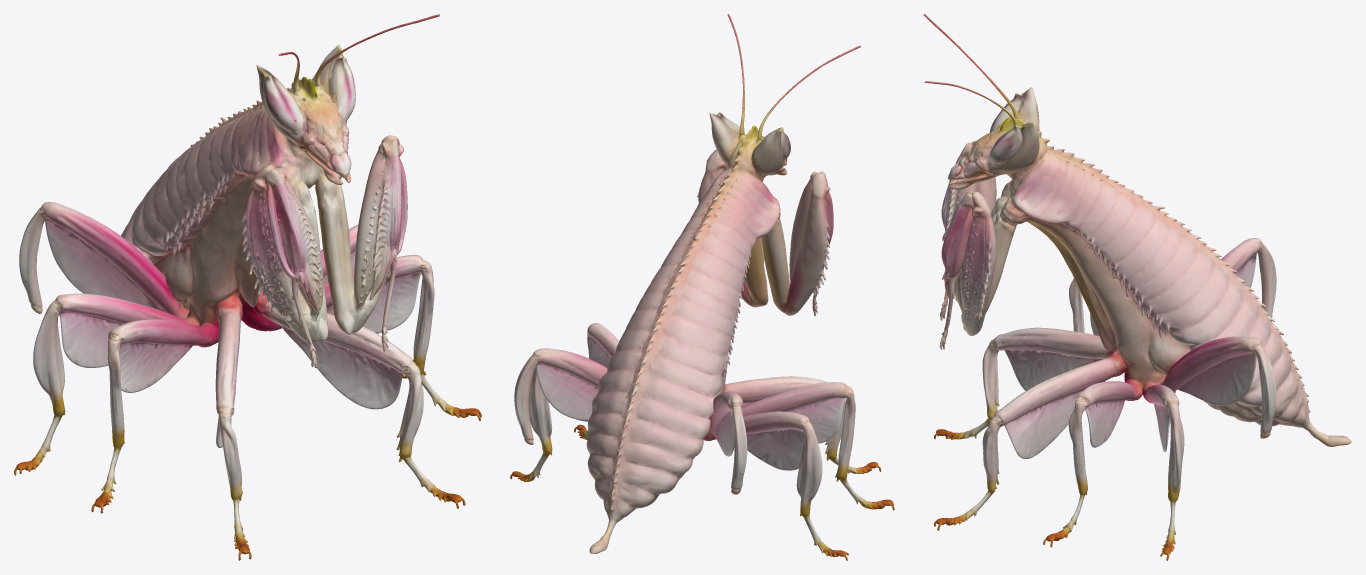
File: pink-praying-mantis.glb
The picture shows the model from 3 angles, left to right: view 1: azimuth 30°, elevation 25°; view 2: azimuth 150°, elevation 25°; view 3: azimuth 270°, elevation 25°; orthographic projection. The views are drawn at different scales.
Parts seen in each view (by area): view 1: tripo_node_3e8298fe-7158-4252-9b09-6156dda5f33e; view 2: tripo_node_3e8298fe-7158-4252-9b09-6156dda5f33e; view 3: tripo_node_3e8298fe-7158-4252-9b09-6156dda5f33e.
Boxes of the visible parts, box(x1,y1,x2,y2) form: tripo_node_3e8298fe-7158-4252-9b09-6156dda5f33e: box(14, 14, 481, 560); tripo_node_3e8298fe-7158-4252-9b09-6156dda5f33e: box(510, 14, 894, 560); tripo_node_3e8298fe-7158-4252-9b09-6156dda5f33e: box(923, 14, 1351, 560).
Size of the model in its own units: 0.8348 by 0.9815 by 0.8728.
Materials: 1 (1 with a texture image).
